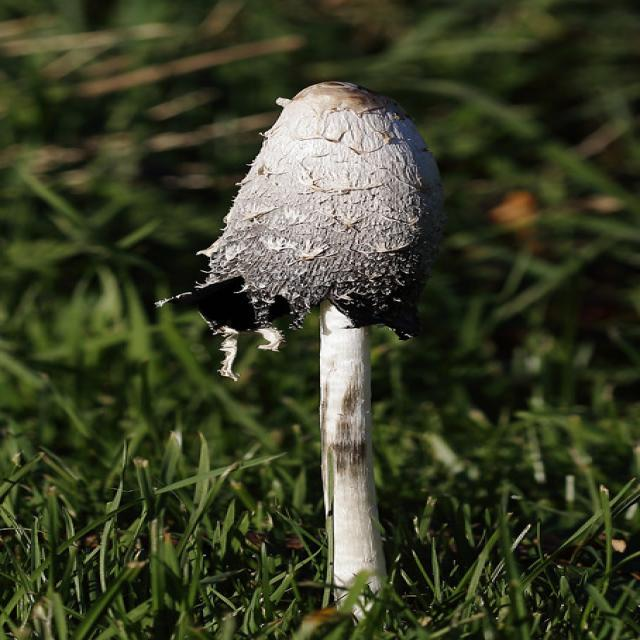Coprinus comatus: (172, 81, 460, 591)
